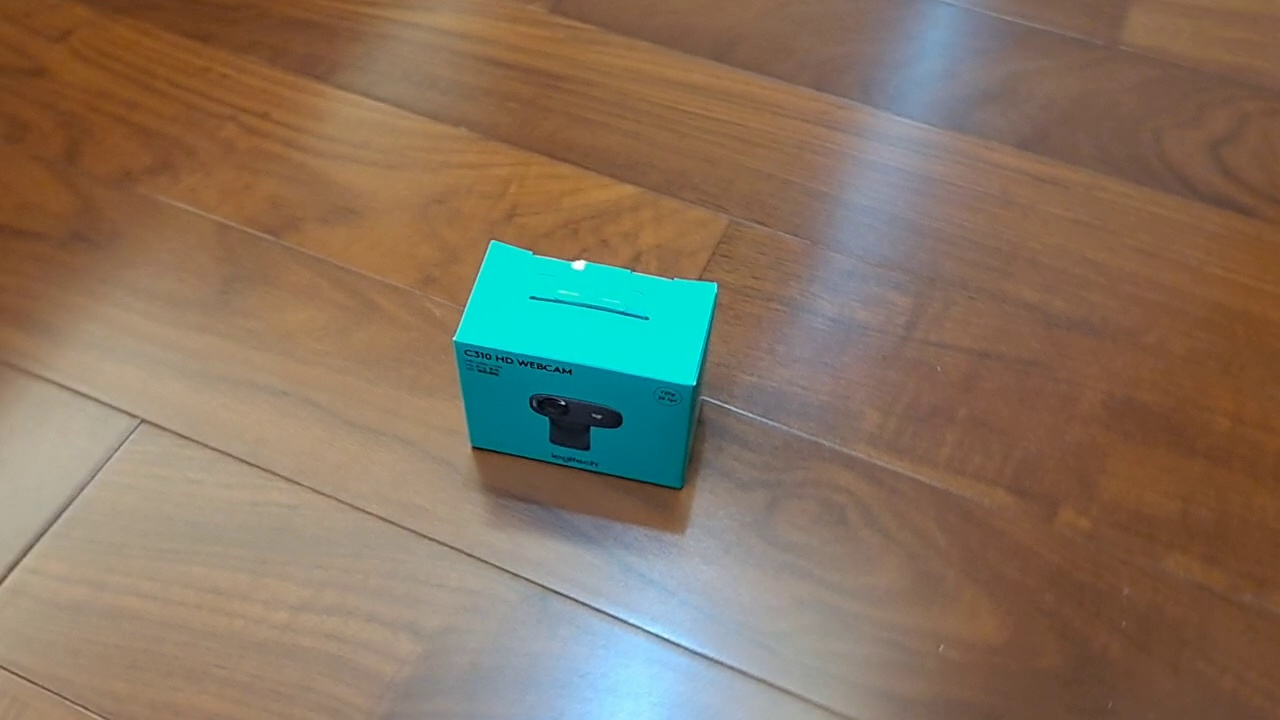webcam: (451, 239, 719, 491)
